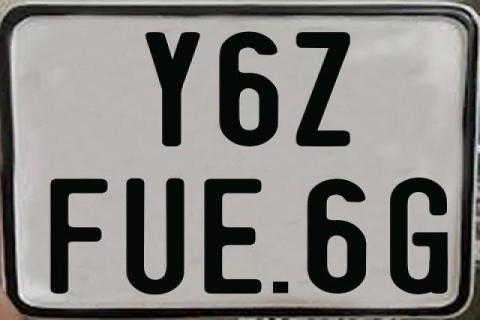0: (218, 29, 277, 149), (306, 176, 366, 292)
E: (204, 176, 267, 293)
F: (48, 177, 110, 295)
G: (389, 175, 451, 293)
U: (126, 178, 189, 296)
Y: (143, 31, 204, 148)
Z: (294, 31, 350, 147)
